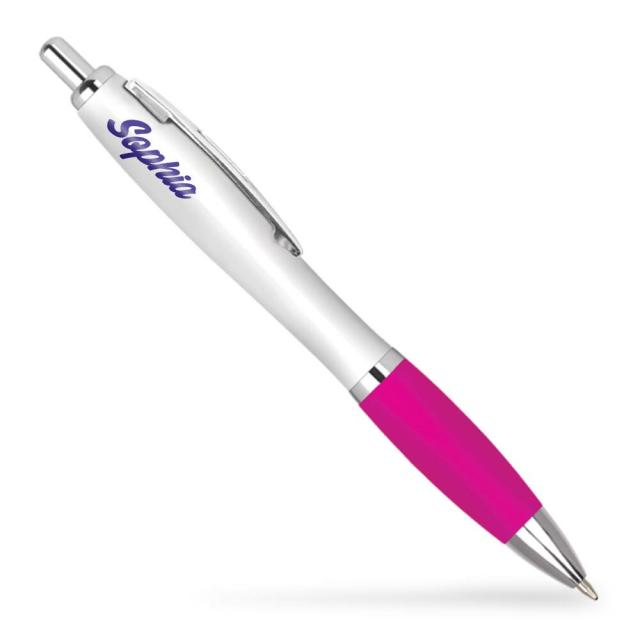pen: (32, 23, 622, 624)
